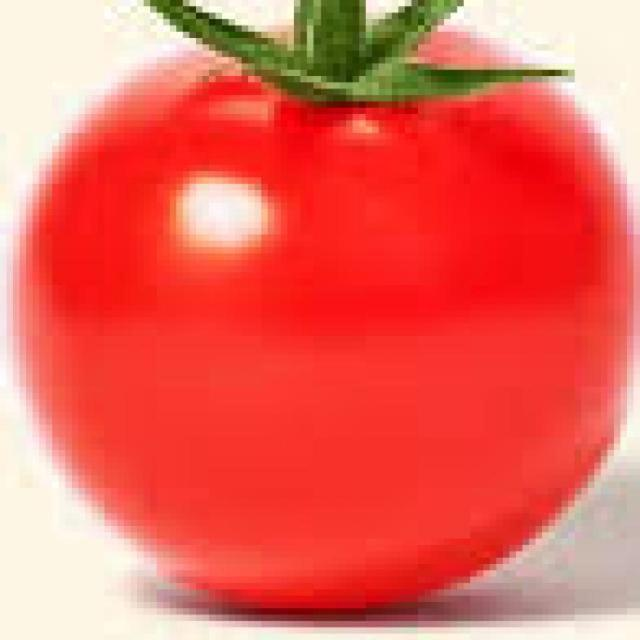Healthy Fruit: (12, 24, 427, 409)
